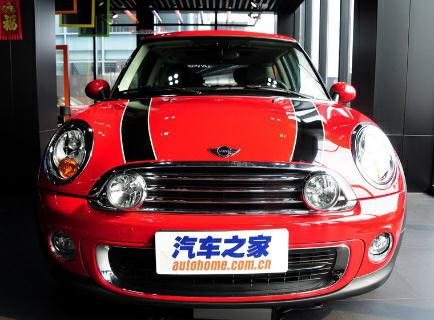MINI: (31, 29, 418, 308)
